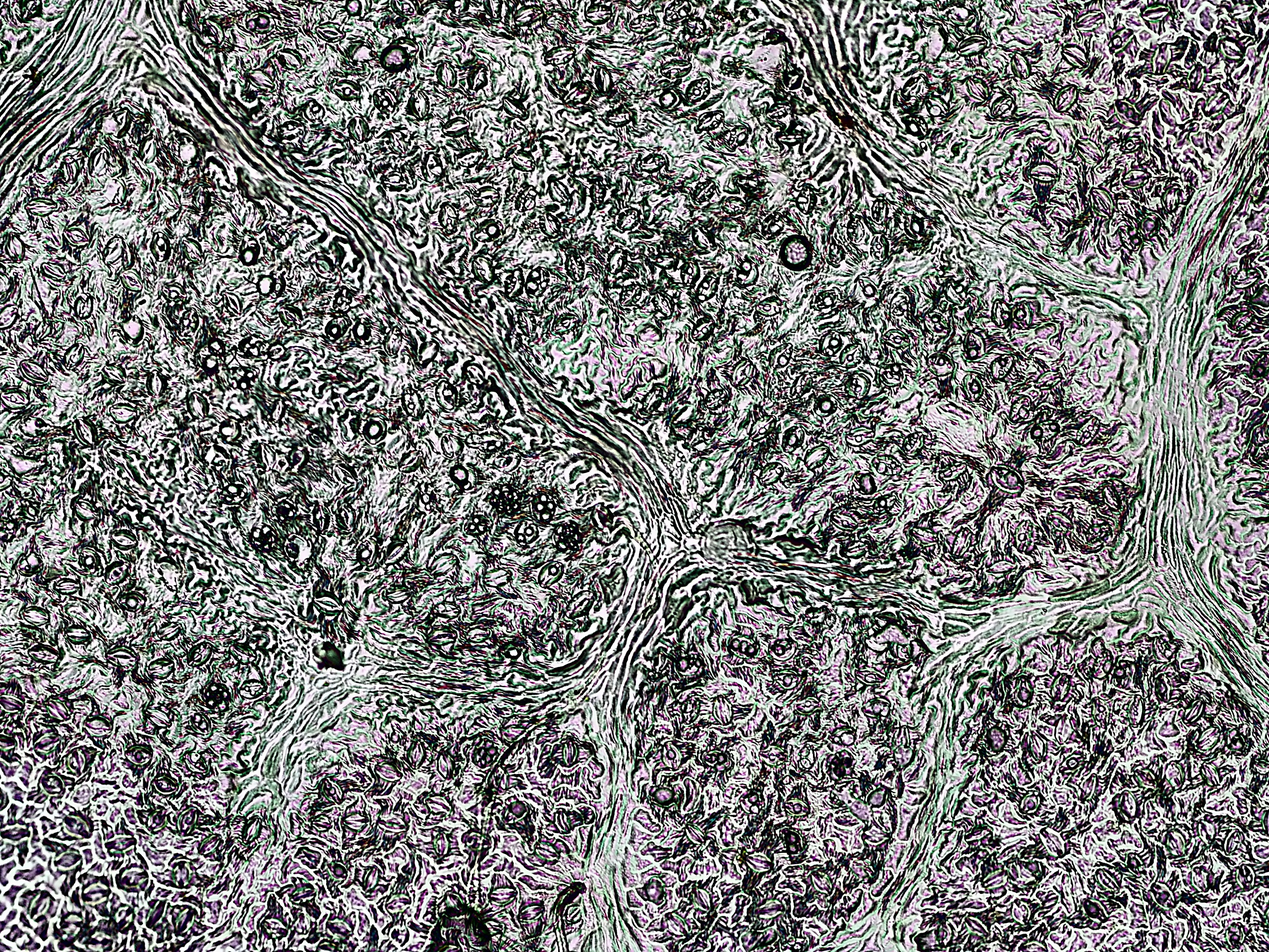stomata: (489, 484, 520, 514), (1112, 97, 1143, 126), (566, 589, 595, 619), (1052, 82, 1080, 113), (992, 465, 1023, 493), (74, 414, 100, 447), (310, 592, 347, 615), (0, 820, 34, 845), (283, 532, 310, 563), (244, 10, 276, 35), (106, 644, 139, 668), (1149, 881, 1177, 909), (119, 315, 146, 344), (1089, 696, 1112, 730), (1039, 826, 1065, 856), (673, 653, 705, 677), (201, 16, 227, 45), (119, 864, 148, 890), (251, 521, 277, 550), (1075, 416, 1100, 446), (1016, 519, 1038, 553), (1074, 9, 1105, 33), (0, 388, 32, 411), (402, 387, 425, 419), (713, 694, 736, 726), (844, 371, 870, 399), (729, 632, 757, 658), (1074, 138, 1103, 163), (27, 891, 52, 920), (384, 538, 409, 567), (332, 78, 362, 102), (1090, 186, 1113, 217), (435, 380, 458, 411), (421, 153, 444, 184), (408, 89, 430, 121), (150, 231, 172, 263), (1094, 866, 1120, 893), (221, 480, 249, 505), (952, 524, 972, 559), (20, 360, 49, 384), (474, 220, 503, 244), (1024, 728, 1045, 761), (373, 85, 396, 115), (188, 390, 211, 420), (53, 849, 83, 872), (335, 501, 357, 532), (901, 76, 927, 102), (64, 811, 90, 837), (362, 418, 388, 444), (750, 415, 776, 441), (1062, 43, 1089, 68), (187, 641, 212, 668), (333, 461, 360, 486), (314, 21, 346, 42), (175, 807, 199, 835), (533, 491, 554, 523), (526, 266, 549, 295), (926, 352, 955, 375), (245, 67, 275, 89), (1191, 864, 1213, 894), (4, 232, 25, 263), (88, 147, 109, 178), (19, 416, 50, 437), (106, 834, 137, 855), (383, 325, 404, 356), (686, 77, 711, 103), (539, 561, 564, 587), (311, 252, 335, 279), (689, 315, 713, 342), (770, 637, 797, 661), (24, 197, 58, 216), (435, 61, 458, 89), (564, 82, 592, 105), (17, 552, 45, 575), (1154, 42, 1174, 74), (20, 604, 49, 626), (229, 642, 258, 664), (429, 554, 458, 576), (472, 255, 494, 284), (1164, 829, 1186, 858), (1141, 2, 1171, 23), (173, 906, 194, 936), (241, 815, 262, 845), (990, 298, 1011, 328), (406, 740, 427, 770), (146, 897, 165, 930), (265, 223, 290, 248), (592, 505, 617, 530), (158, 184, 182, 210), (691, 223, 715, 249), (740, 792, 766, 816), (503, 96, 530, 119), (730, 359, 753, 386), (312, 502, 332, 533), (565, 250, 585, 281), (910, 524, 941, 544), (1249, 350, 1269, 381), (702, 750, 733, 770), (1011, 674, 1031, 705), (442, 116, 470, 138), (147, 658, 175, 680), (112, 904, 134, 932), (202, 443, 230, 465), (325, 917, 353, 939), (782, 827, 804, 855), (957, 35, 986, 56), (146, 369, 167, 398), (830, 510, 859, 531), (662, 741, 683, 770), (828, 725, 857, 746), (1225, 921, 1246, 950), (28, 644, 60, 663), (514, 5, 544, 25), (594, 65, 614, 95), (964, 76, 989, 100), (111, 108, 131, 138), (189, 710, 213, 735), (503, 268, 523, 298), (759, 462, 784, 486), (871, 454, 901, 474), (377, 814, 407, 834), (856, 665, 886, 685), (861, 698, 891, 718), (1052, 714, 1072, 744), (1117, 790, 1137, 820), (1081, 895, 1106, 919), (347, 117, 370, 143), (119, 269, 145, 292), (818, 331, 841, 357), (1226, 725, 1249, 751), (696, 111, 723, 133), (723, 127, 750, 149), (82, 883, 109, 905), (464, 514, 491, 536), (769, 343, 791, 370), (641, 386, 663, 413), (1031, 421, 1058, 443), (1047, 511, 1074, 533), (602, 108, 633, 127), (277, 121, 305, 142), (584, 3, 612, 24), (125, 745, 153, 766), (721, 195, 749, 216), (870, 196, 891, 224), (628, 14, 657, 34), (1013, 301, 1033, 330), (463, 830, 492, 850), (1049, 674, 1069, 703), (1152, 633, 1172, 662), (184, 750, 208, 774), (805, 446, 829, 470), (924, 311, 948, 335), (840, 344, 864, 368), (302, 98, 325, 123), (206, 682, 229, 707), (692, 179, 715, 204), (735, 261, 758, 286), (746, 851, 771, 874), (1193, 726, 1218, 749), (278, 47, 304, 69), (181, 238, 203, 264), (223, 290, 245, 316), (761, 213, 783, 239), (883, 327, 909, 349), (261, 917, 287, 939), (962, 915, 988, 937), (661, 59, 691, 78), (179, 308, 198, 338), (109, 403, 139, 422), (1010, 394, 1029, 424), (1223, 827, 1242, 857), (64, 343, 85, 370), (111, 529, 138, 550), (67, 748, 88, 775), (473, 186, 500, 207), (1127, 693, 1144, 726), (467, 62, 487, 90), (948, 5, 976, 25), (1030, 162, 1058, 182), (137, 135, 157, 163), (759, 745, 787, 765), (1164, 761, 1184, 789), (657, 86, 680, 110), (103, 236, 122, 265), (431, 601, 460, 620), (456, 148, 485, 167), (517, 310, 536, 339), (846, 427, 875, 446), (934, 920, 953, 949), (102, 363, 127, 385), (106, 561, 128, 586), (516, 520, 538, 545), (549, 178, 571, 203), (903, 115, 929, 136), (33, 732, 59, 753), (239, 678, 265, 699), (441, 433, 462, 459), (539, 212, 560, 238), (663, 0, 690, 20), (775, 128, 805, 146), (1121, 171, 1151, 189), (160, 282, 187, 302), (116, 593, 146, 611), (441, 202, 459, 232), (608, 247, 628, 274), (905, 214, 925, 241), (1196, 817, 1216, 844), (1011, 52, 1030, 80), (193, 184, 212, 212), (144, 708, 172, 727), (516, 184, 535, 212), (288, 885, 316, 904), (399, 450, 422, 473), (704, 389, 727, 412), (666, 912, 689, 935), (925, 96, 949, 118), (1229, 309, 1253, 331), (79, 548, 101, 572), (41, 773, 65, 795), (389, 923, 411, 947), (390, 0, 421, 17), (65, 226, 90, 247), (64, 623, 89, 644), (552, 312, 577, 333), (783, 426, 804, 451), (386, 892, 411, 913), (536, 840, 561, 861), (798, 185, 816, 214), (1228, 3, 1254, 23), (85, 716, 111, 736), (614, 210, 640, 230), (698, 275, 718, 301), (681, 697, 701, 723), (1019, 789, 1039, 815), (15, 0, 42, 19), (385, 585, 412, 604), (846, 216, 865, 243), (939, 461, 966, 480), (488, 886, 515, 905), (477, 918, 504, 937), (794, 695, 821, 714), (1235, 863, 1254, 890), (258, 441, 275, 471), (871, 232, 888, 262), (991, 95, 1014, 117), (1206, 92, 1228, 115), (0, 689, 23, 711), (512, 150, 535, 172), (153, 774, 177, 795), (146, 808, 167, 832), (963, 332, 984, 356), (506, 801, 527, 825), (862, 827, 890, 845), (1233, 268, 1258, 288), (172, 862, 192, 887), (221, 416, 241, 441), (813, 290, 838, 310), (1036, 370, 1061, 390), (757, 899, 783, 918), (784, 798, 810, 817), (652, 787, 678, 806), (1126, 850, 1145, 876), (546, 46, 575, 63), (1188, 63, 1205, 92), (359, 537, 376, 566), (1154, 673, 1171, 702), (639, 153, 666, 171), (964, 374, 982, 401), (691, 885, 709, 912), (21, 498, 42, 521), (200, 832, 221, 855), (383, 170, 406, 191), (814, 395, 837, 416), (990, 355, 1011, 378), (811, 872, 834, 893), (784, 67, 804, 91), (417, 341, 437, 365), (791, 375, 811, 399), (776, 669, 800, 689), (982, 870, 1006, 890), (388, 129, 407, 154), (589, 181, 608, 206), (888, 292, 907, 317), (904, 431, 923, 456), (491, 766, 510, 791), (849, 857, 874, 876), (1059, 754, 1084, 773), (1160, 185, 1178, 211), (60, 157, 78, 183), (55, 577, 81, 595), (893, 725, 911, 751), (1080, 772, 1095, 803), (256, 275, 277, 297), (76, 497, 97, 519), (47, 699, 69, 720), (497, 450, 519, 471), (945, 282, 966, 304), (686, 822, 707, 844), (1182, 701, 1203, 723), (767, 99, 790, 119), (1139, 215, 1159, 238), (859, 277, 879, 300), (322, 778, 342, 801), (892, 744, 912, 767), (1132, 767, 1155, 787), (0, 301, 17, 328), (427, 627, 454, 644), (841, 541, 868, 558), (433, 830, 450, 857), (1011, 900, 1030, 924), (75, 294, 93, 319), (465, 625, 490, 643), (652, 251, 677, 269), (375, 762, 400, 780), (562, 739, 578, 767), (362, 866, 379, 892), (557, 808, 574, 834), (962, 826, 988, 843), (280, 304, 301, 325), (1222, 38, 1244, 58), (464, 363, 484, 385), (621, 285, 641, 307), (654, 291, 673, 314), (1017, 937, 1046, 952), (757, 298, 781, 316), (503, 724, 527, 742), (1201, 762, 1219, 786), (681, 260, 698, 285), (1105, 482, 1120, 510), (158, 622, 180, 641), (873, 494, 895, 513), (327, 862, 349, 881), (42, 261, 65, 279), (519, 905, 542, 923), (426, 795, 449, 813), (288, 446, 304, 471), (878, 369, 900, 387), (868, 785, 886, 807), (269, 398, 286, 421), (344, 814, 368, 830), (685, 15, 704, 35), (483, 0, 504, 18), (988, 561, 1015, 575), (437, 754, 452, 779), (799, 744, 814, 769), (1180, 655, 1202, 672), (448, 0, 472, 15), (719, 847, 741, 863), (1118, 137, 1141, 152), (306, 429, 325, 447), (311, 815, 331, 832), (446, 891, 462, 912), (1254, 842, 1269, 863), (352, 319, 369, 337), (806, 607, 825, 623), (1253, 756, 1269, 774), (0, 731, 15, 750), (567, 905, 581, 922)
